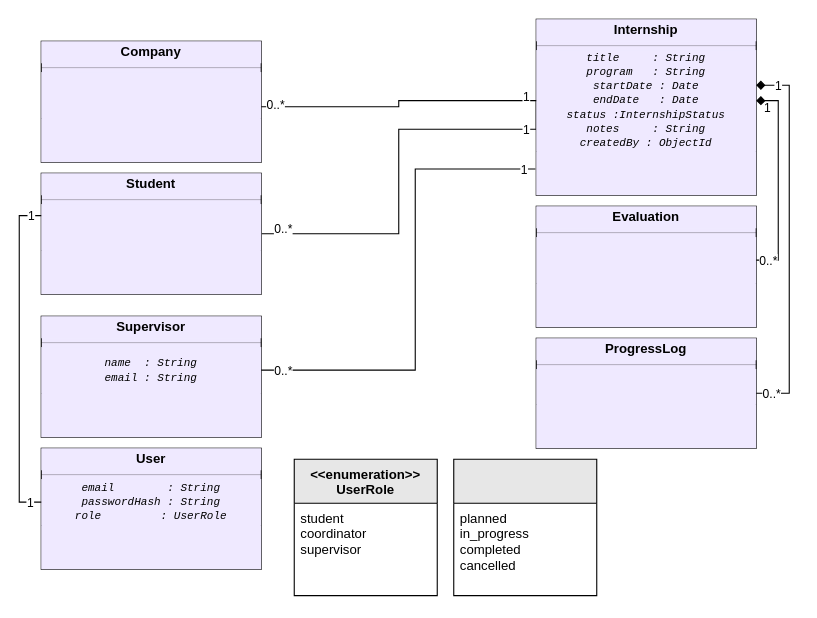
Some shapes in this 817 by 618 pixel diagram are drawn without their labels. Here are the shapes that lost their labels. From the top down, the box of each, then its label:
(41, 72, 261, 118): name : String contactEmail : String
(41, 204, 261, 250): studentId : String name : String program : String
(536, 237, 756, 283): score : Integer feedback : String
(536, 369, 756, 404): logDate : Date hours : Integer note : String
(453, 458, 597, 596): <<enumeration>> InternshipStatus
